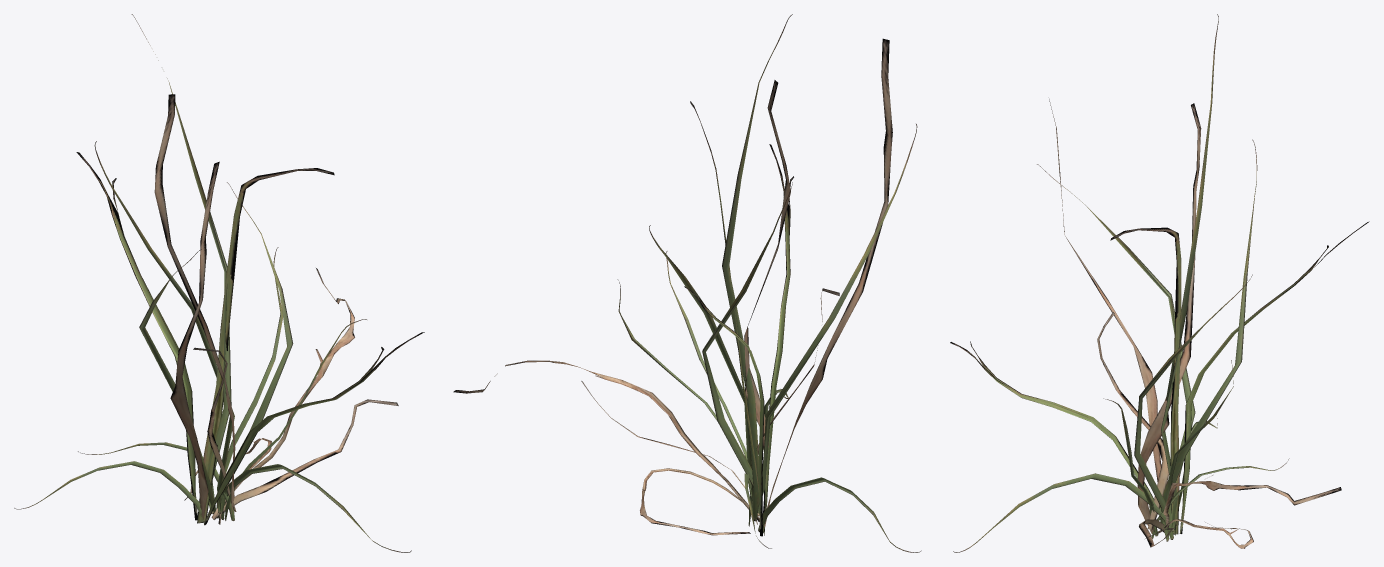
The model's file is grass_medium_02.glb.
3 renders of one model, left to right at view 1: azimuth 30°, elevation 25°; view 2: azimuth 150°, elevation 25°; view 3: azimuth 270°, elevation 25°, orthographic. The views are drawn at different scales.
Parts seen in each view (by area): view 1: grass_medium_02; view 2: grass_medium_02; view 3: grass_medium_02.
Part boxes in pixels (<box>): grass_medium_02: <box>14,14,424,552</box>; grass_medium_02: <box>453,14,921,552</box>; grass_medium_02: <box>950,14,1369,552</box>.
Size of the model in its own units: 0.1191 by 0.1569 by 0.1198.
1 material, 1 textured.
